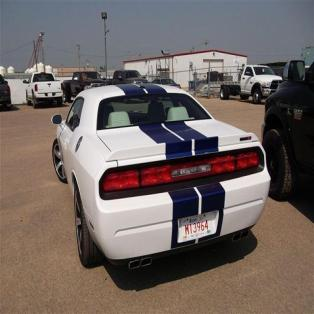Auto: (52, 80, 271, 275)
